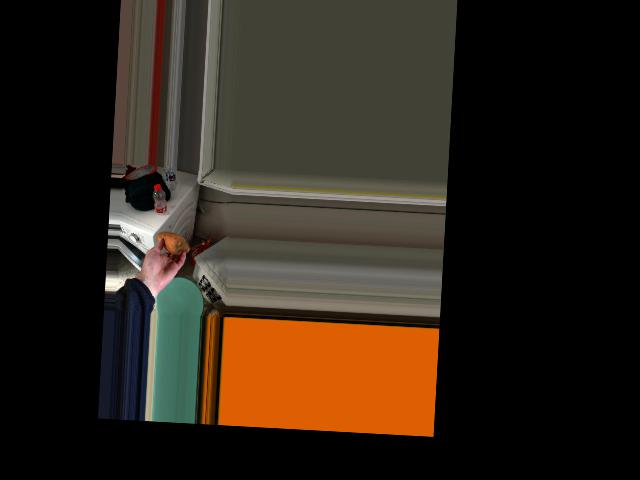sweet_potato: (157, 231, 187, 258)
